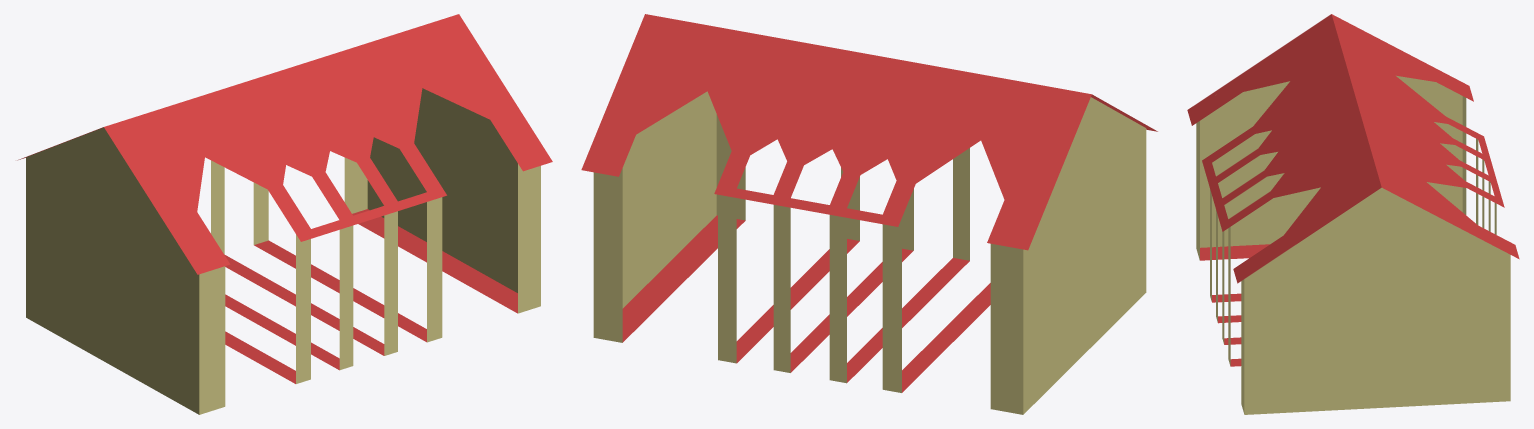
3 views of the same model, side by side, from view 1: azimuth 30°, elevation 25°; view 2: azimuth 150°, elevation 25°; view 3: azimuth 270°, elevation 25° (orthographic). The views are drawn at different scales.
Size of the model in its own units: 27.96 by 20.87 by 15.5.
